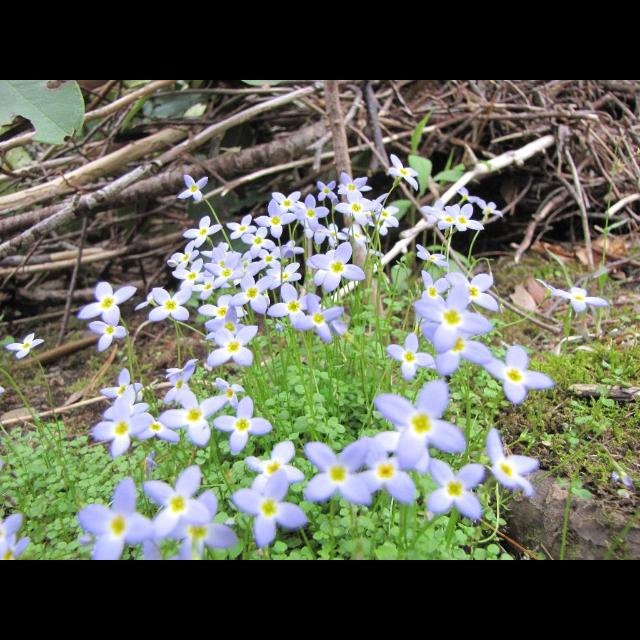Flower: (135, 170, 399, 366), (306, 376, 486, 522), (387, 270, 551, 400), (94, 358, 272, 452), (81, 476, 151, 560), (236, 468, 308, 546), (172, 488, 238, 560), (144, 462, 208, 536), (483, 428, 539, 494), (75, 272, 125, 340), (247, 441, 305, 492), (0, 509, 28, 556), (388, 154, 422, 190), (88, 322, 128, 352), (552, 288, 606, 310), (6, 331, 44, 359), (451, 202, 484, 230), (179, 172, 209, 200), (430, 206, 460, 232), (417, 243, 448, 265), (536, 278, 566, 300), (420, 199, 446, 223), (478, 198, 504, 214), (458, 186, 480, 202)
